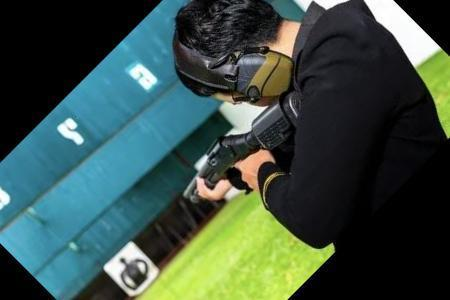gun: (31, 126, 288, 300)
